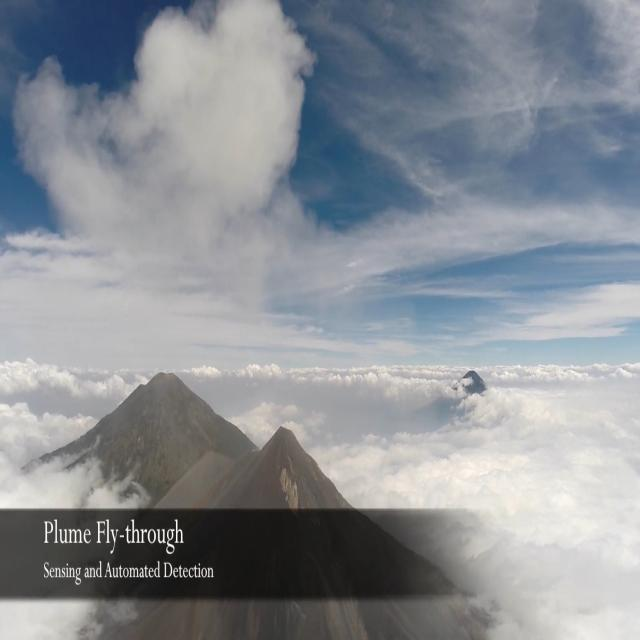Summit: (216, 422, 352, 508)
